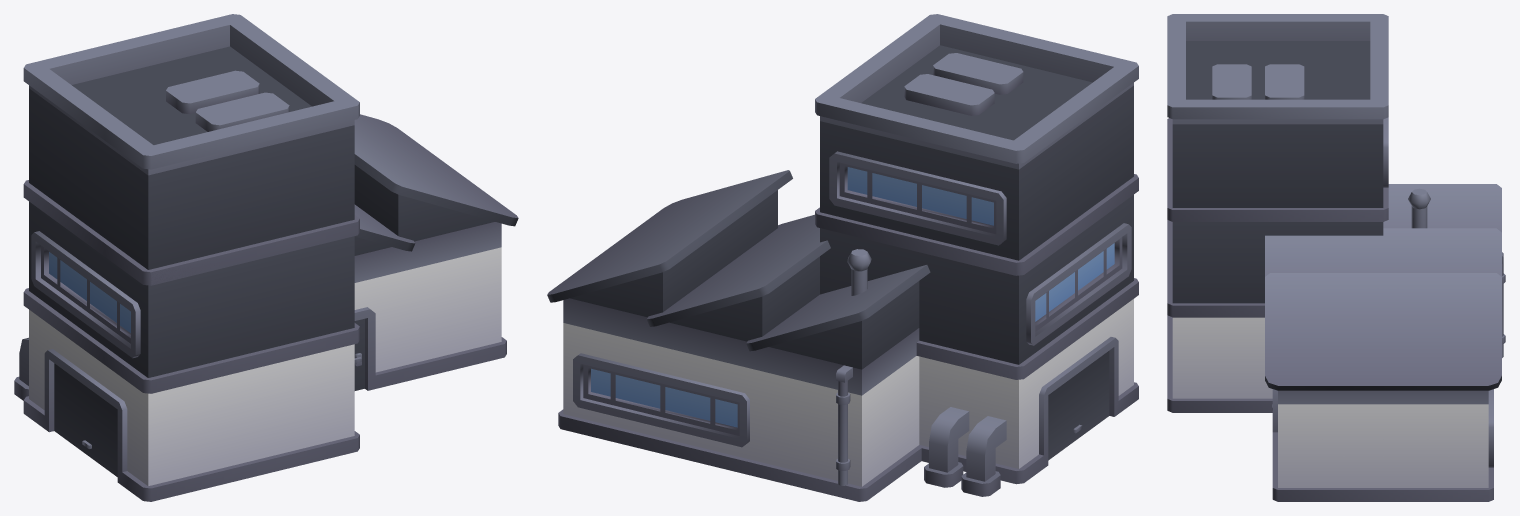
The model's file is kenney-industrial_building-g.glb.
3 views of the same model, side by side, from view 1: azimuth 30°, elevation 25°; view 2: azimuth 150°, elevation 25°; view 3: azimuth 270°, elevation 25° (orthographic). The views are drawn at different scales.
Visible parts, largest first — view 1: building-g; view 2: building-g; view 3: building-g.
Boxes of the visible parts, bbox=[...] form: building-g: bbox=[14, 14, 518, 501]; building-g: bbox=[547, 14, 1138, 501]; building-g: bbox=[1167, 14, 1505, 501].
Size of the model in its own units: 1.68 by 1.28 by 1.28.
Materials: 2 (2 with a texture image).
